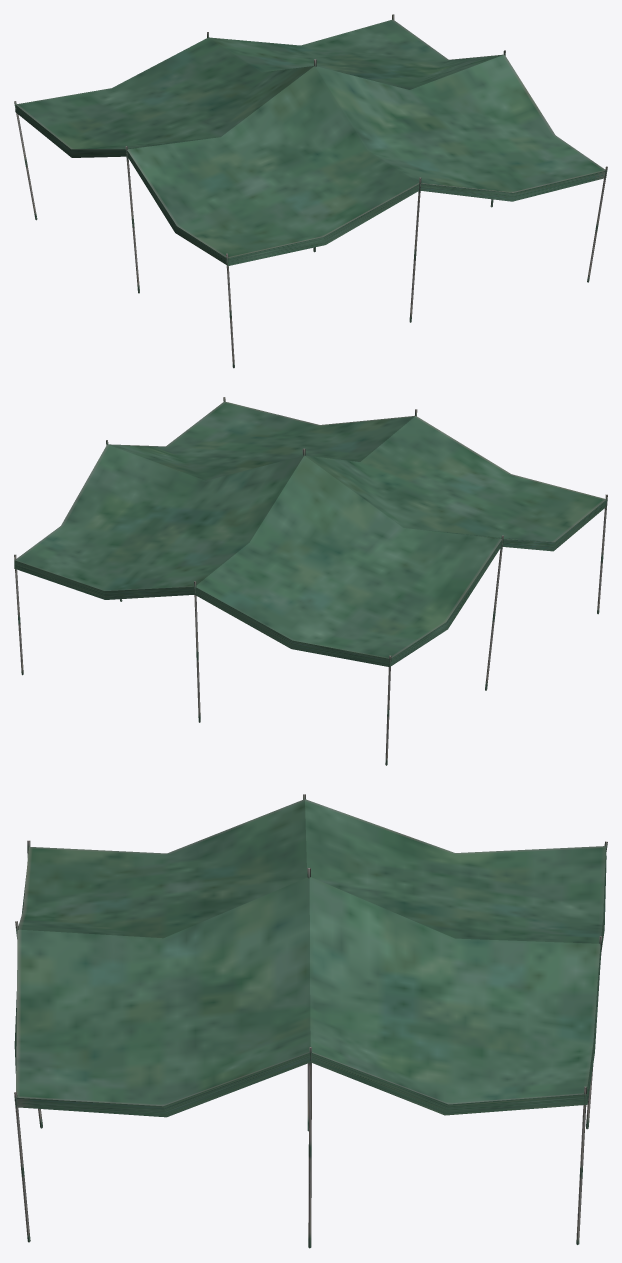
File: poi_nboo_tent_large_l2.fbx
3 renders of one model, top to bottom at view 1: azimuth 30°, elevation 25°; view 2: azimuth 150°, elevation 25°; view 3: azimuth 270°, elevation 25°, orthographic. The views are drawn at different scales.
Parts seen in each view (by area): view 1: mesh_node; view 2: mesh_node; view 3: mesh_node.
Boxes of the visible parts, left/top/right/bottom form: mesh_node: left=14, top=14, right=607, bottom=368; mesh_node: left=14, top=397, right=607, bottom=765; mesh_node: left=14, top=794, right=607, bottom=1248.
Bounding box in the file's own units: 10.88 × 5.21 × 10.65.
2 materials, 2 textured.
